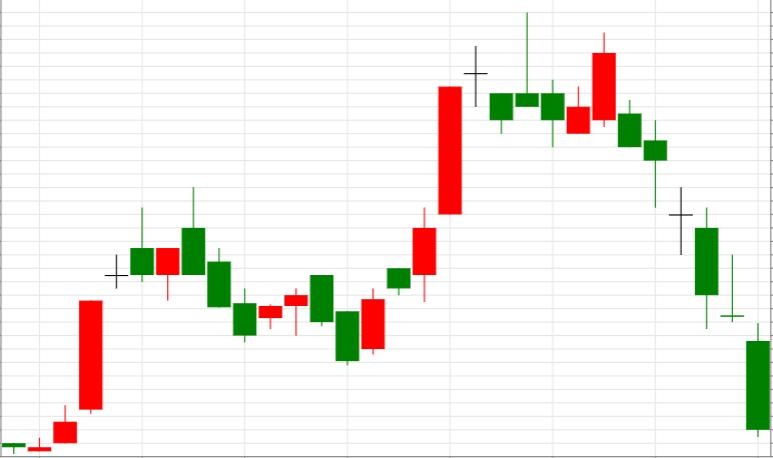evening_star_fall: (361, 46, 513, 354)
